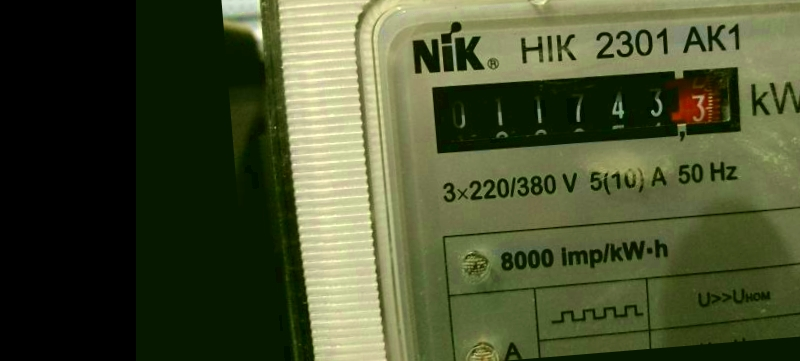0: (447, 95, 469, 132)
1: (530, 89, 548, 124), (493, 93, 506, 126)
3: (644, 83, 665, 119), (689, 91, 709, 125)
4: (607, 86, 627, 121)
7: (568, 88, 589, 123)
screen: (416, 48, 757, 169)
